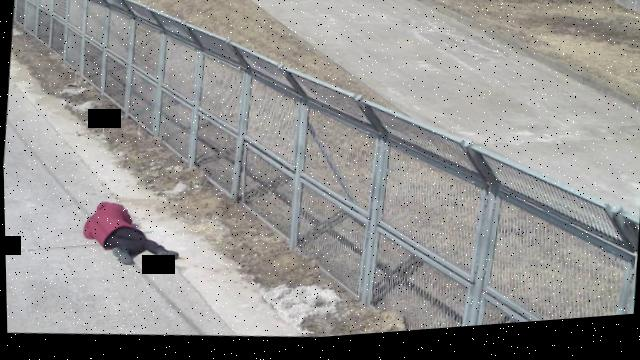fall: (77, 199, 184, 276)
